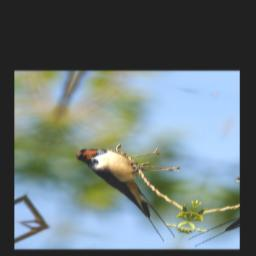Swallow: (48, 145, 205, 243)
